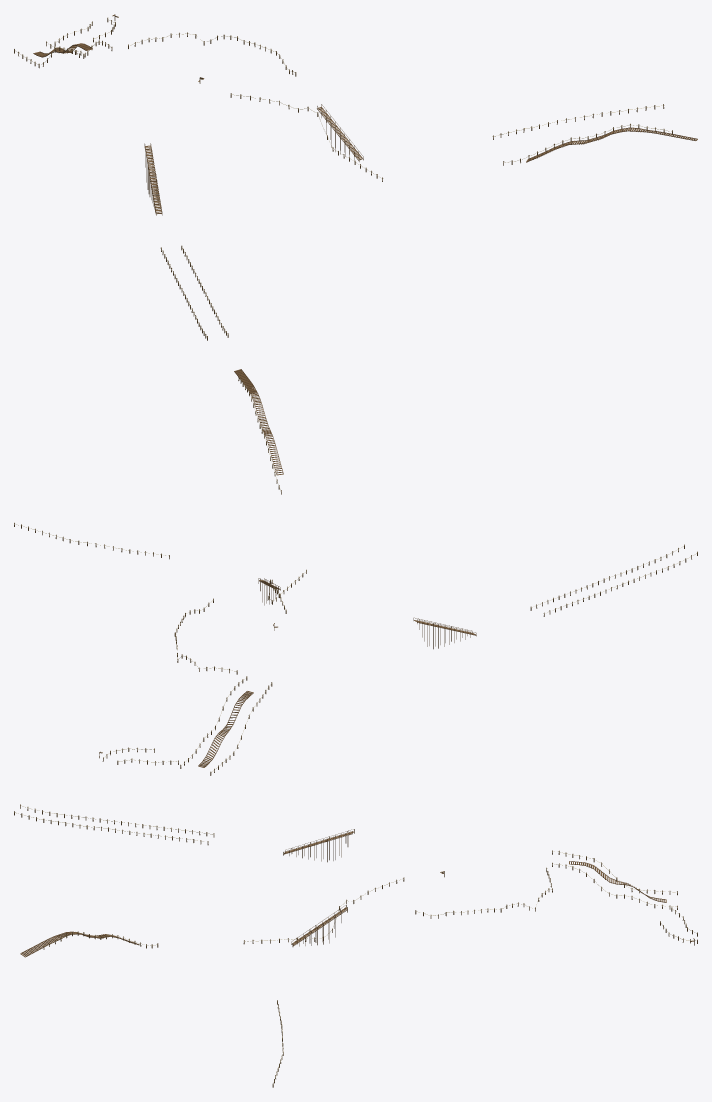
The model's file is trailside.glb.
3 renders of one model, top to bottom at view 1: azimuth 30°, elevation 25°; view 2: azimuth 150°, elevation 25°; view 3: azimuth 270°, elevation 25°, orthographic. The views are drawn at different scales.
Parts seen in each view (by area): view 1: trailside; view 2: trailside; view 3: trailside.
Boxes of the visible parts, left/top/right/bottom form: trailside: left=14, top=14, right=697, bottom=340; trailside: left=14, top=369, right=697, bottom=775; trailside: left=14, top=804, right=697, bottom=1087.
Size of the model in its own units: 222 by 36.65 by 240.
